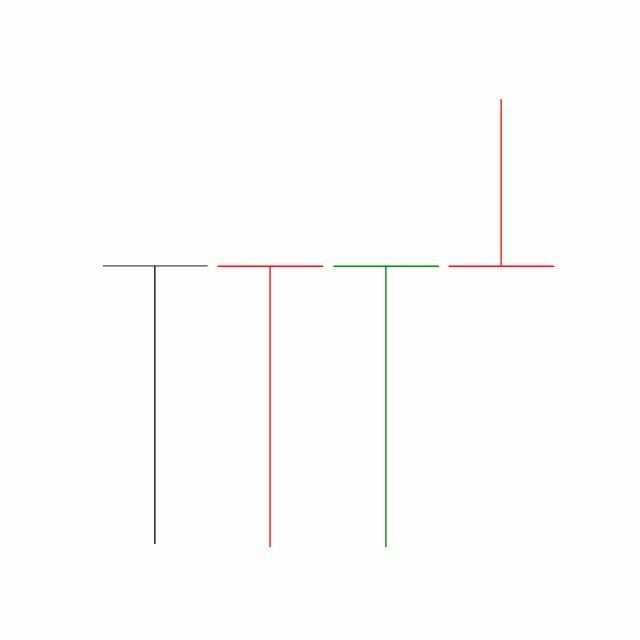Gravestone Doji: (444, 97, 560, 269)
